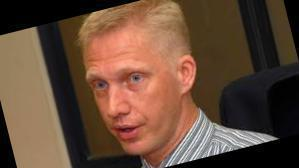Drunk: (88, 35, 180, 156)
